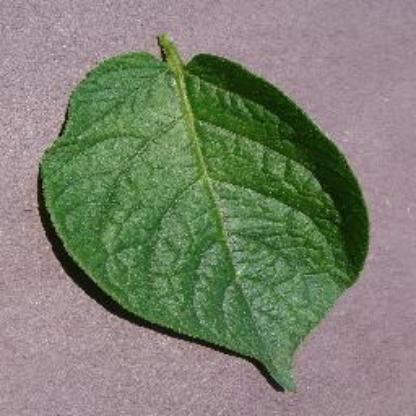Healthy-plant: (36, 28, 376, 392)
